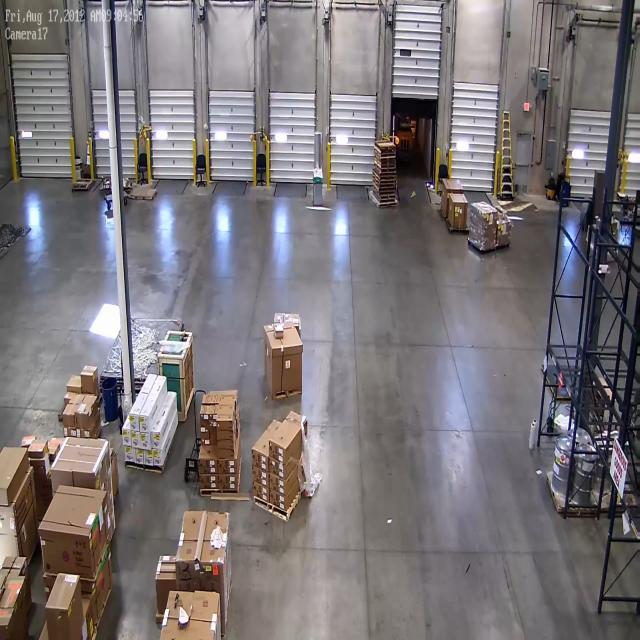product 1: (177, 506, 232, 563), (160, 592, 224, 640), (262, 325, 304, 395), (80, 506, 115, 578), (51, 436, 110, 474), (91, 546, 117, 624), (109, 447, 123, 500), (470, 201, 497, 225), (273, 311, 303, 332), (476, 222, 496, 248), (442, 191, 470, 209), (493, 219, 512, 244), (439, 177, 465, 194)
product 2: (274, 325, 284, 339)
product 3: (128, 413, 139, 430), (121, 430, 132, 447), (130, 430, 140, 448), (139, 416, 150, 432), (125, 447, 135, 464), (151, 430, 160, 448), (141, 433, 150, 451), (135, 449, 145, 463), (144, 450, 153, 465), (154, 450, 162, 464)
product 4: (27, 433, 47, 460), (268, 439, 286, 465), (197, 474, 220, 494), (32, 453, 52, 474), (199, 456, 220, 476), (252, 464, 269, 488), (253, 482, 270, 506), (492, 202, 510, 224), (252, 448, 268, 472), (269, 475, 286, 497), (268, 460, 286, 480), (269, 489, 286, 510), (82, 365, 100, 384), (219, 460, 237, 478), (48, 437, 62, 459), (75, 408, 90, 428), (219, 476, 236, 492), (67, 373, 82, 390), (61, 410, 76, 424), (216, 431, 235, 441), (200, 405, 217, 416), (64, 389, 78, 402), (76, 428, 91, 440), (217, 420, 233, 431), (218, 404, 234, 415), (221, 394, 237, 404), (19, 435, 33, 446), (216, 450, 235, 458), (215, 441, 234, 449), (62, 426, 76, 436), (198, 436, 211, 445), (199, 425, 209, 435), (200, 413, 208, 423), (210, 413, 218, 421), (209, 422, 217, 428)
product 5: (6, 474, 42, 556), (46, 572, 82, 627), (0, 443, 30, 508), (69, 604, 101, 640), (0, 606, 24, 638), (1, 554, 28, 582), (1, 585, 23, 610), (157, 552, 175, 582), (203, 394, 220, 406)
